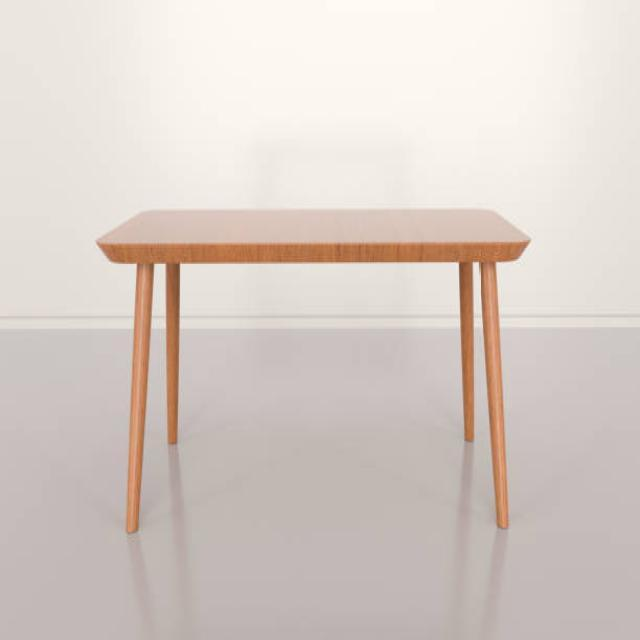table: (94, 206, 531, 534)
